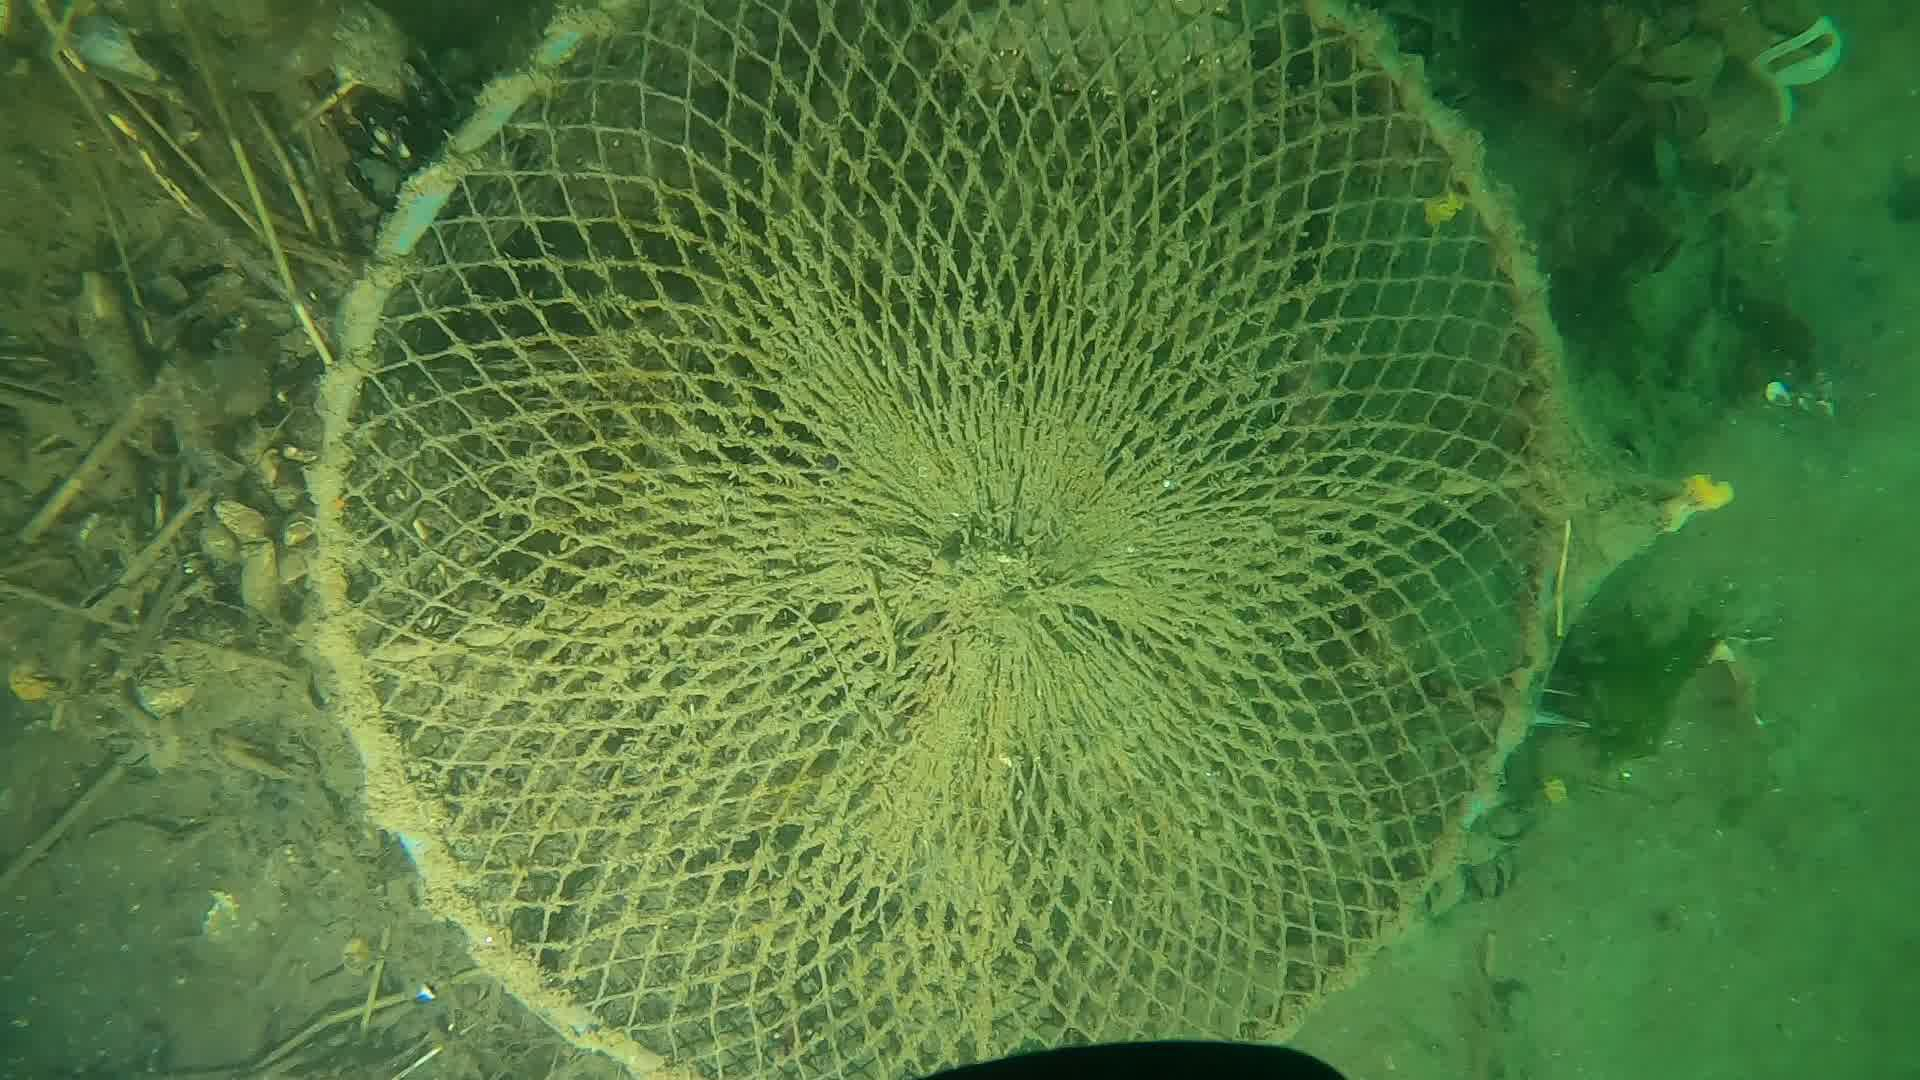circular fish trap: (293, 0, 1586, 1080)
